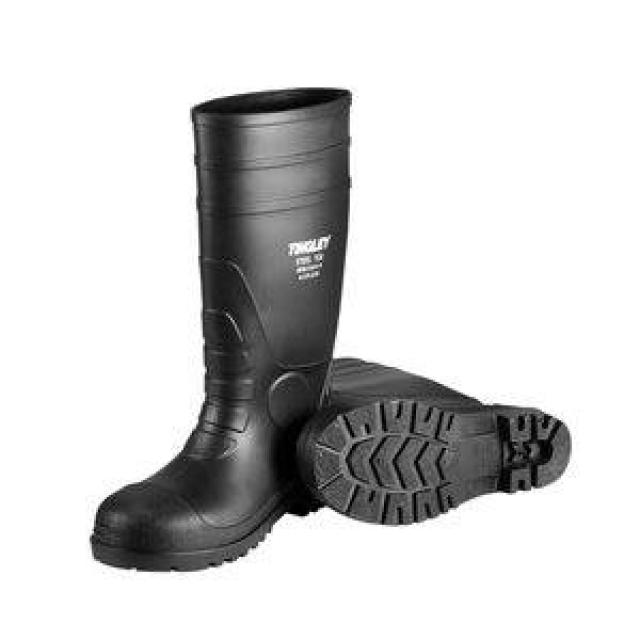boot: (93, 80, 357, 570), (312, 374, 576, 525)
